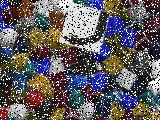Right: (59, 2, 111, 53)
